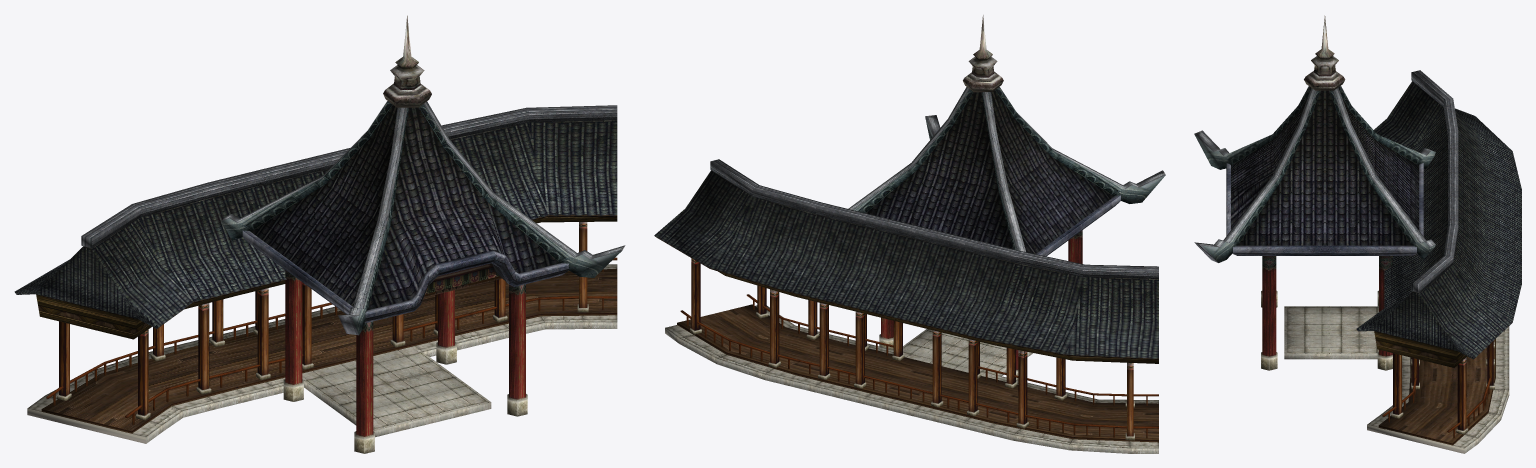
Rendered from b-general_external01.glb.
3 views of the same model, side by side, from view 1: azimuth 30°, elevation 25°; view 2: azimuth 150°, elevation 25°; view 3: azimuth 270°, elevation 25° (orthographic). The views are drawn at different scales.
Visible parts, largest first — view 1: B-general_external01, B-general_external02; view 2: B-general_external01, B-general_external02; view 3: B-general_external01, B-general_external02.
Boxes of the visible parts, <box> form: B-general_external01: <box>14,105,617,443</box>; B-general_external02: <box>221,15,625,453</box>; B-general_external01: <box>654,159,1158,453</box>; B-general_external02: <box>848,15,1165,379</box>; B-general_external01: <box>1284,70,1521,453</box>; B-general_external02: <box>1194,15,1435,370</box>.
Bounding box in the file's own units: 60.98 × 37.85 × 34.93.
2 materials, 2 textured.
